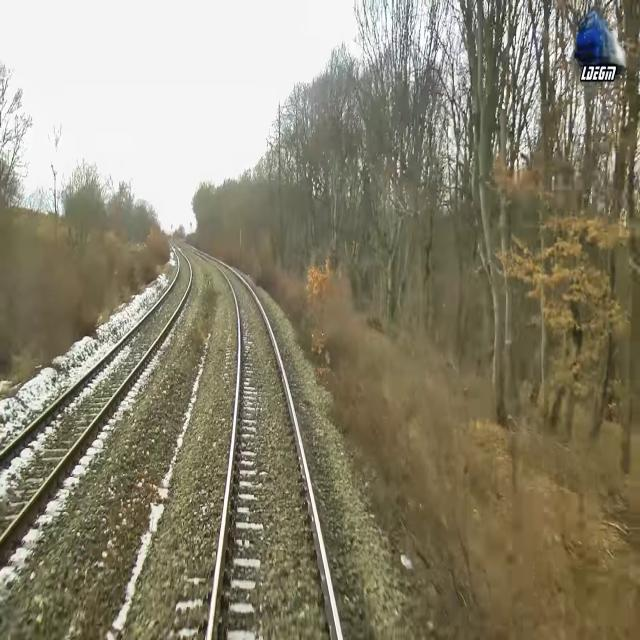rail-track: (189, 247, 338, 639), (0, 245, 190, 535)
